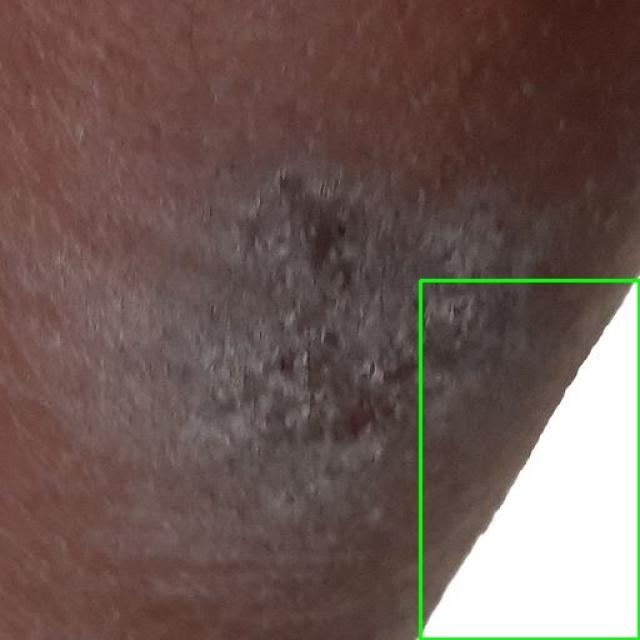Contact Dermatitis: (420, 280, 639, 639)
